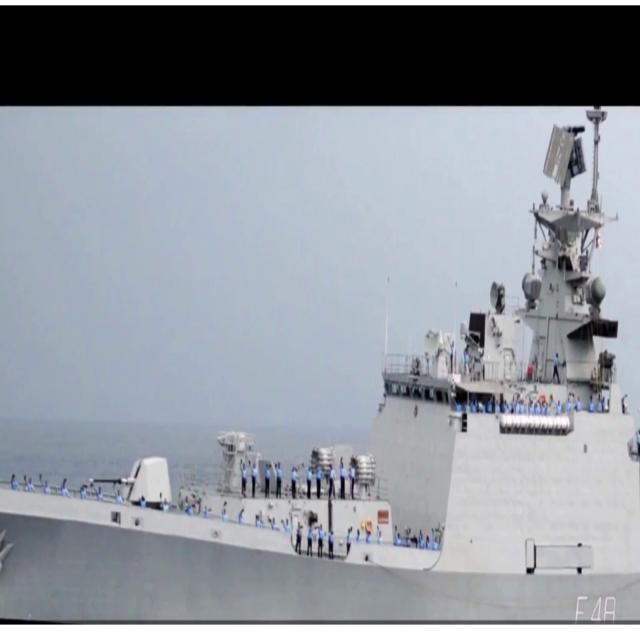OCR: (570, 586, 615, 623)
